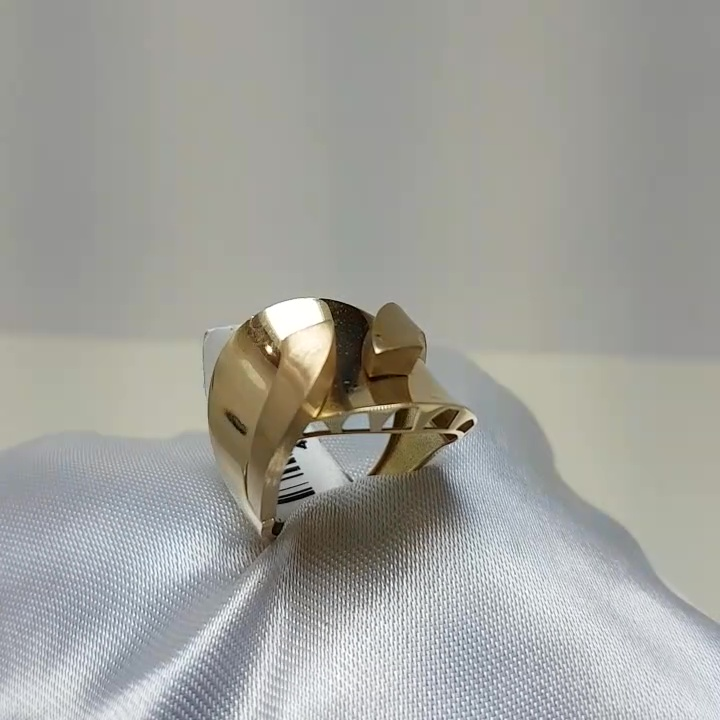Ring 4: (187, 285, 482, 552)
